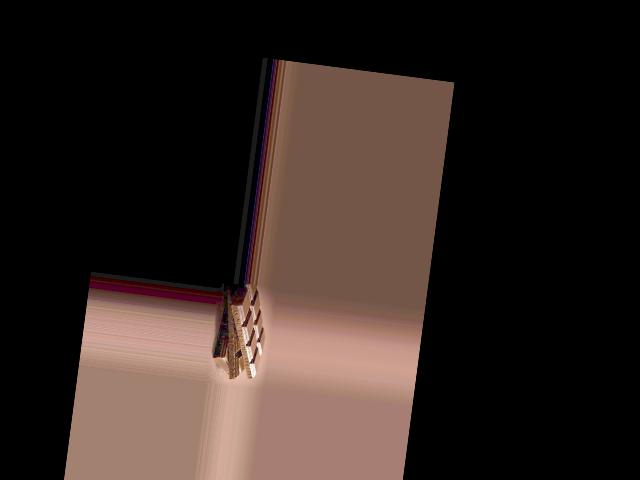chocolate: (216, 284, 270, 382)
